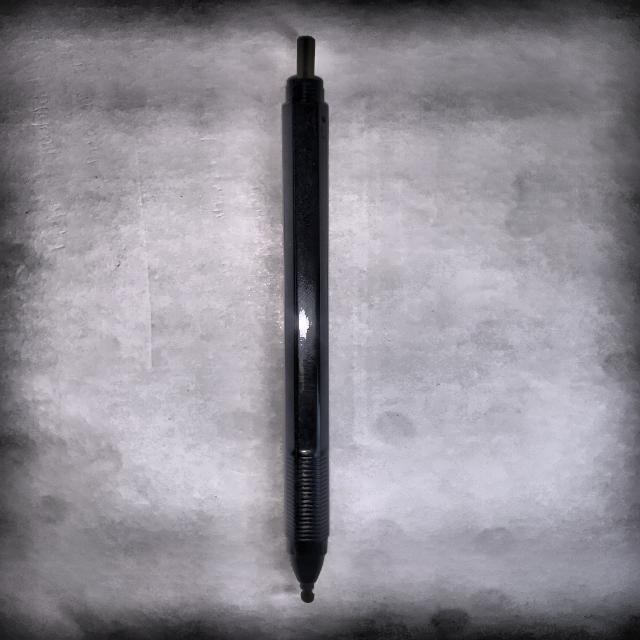Pulpen: (260, 34, 365, 620)
